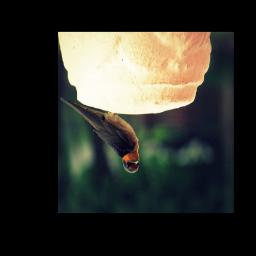Swallow: (60, 96, 141, 175)
